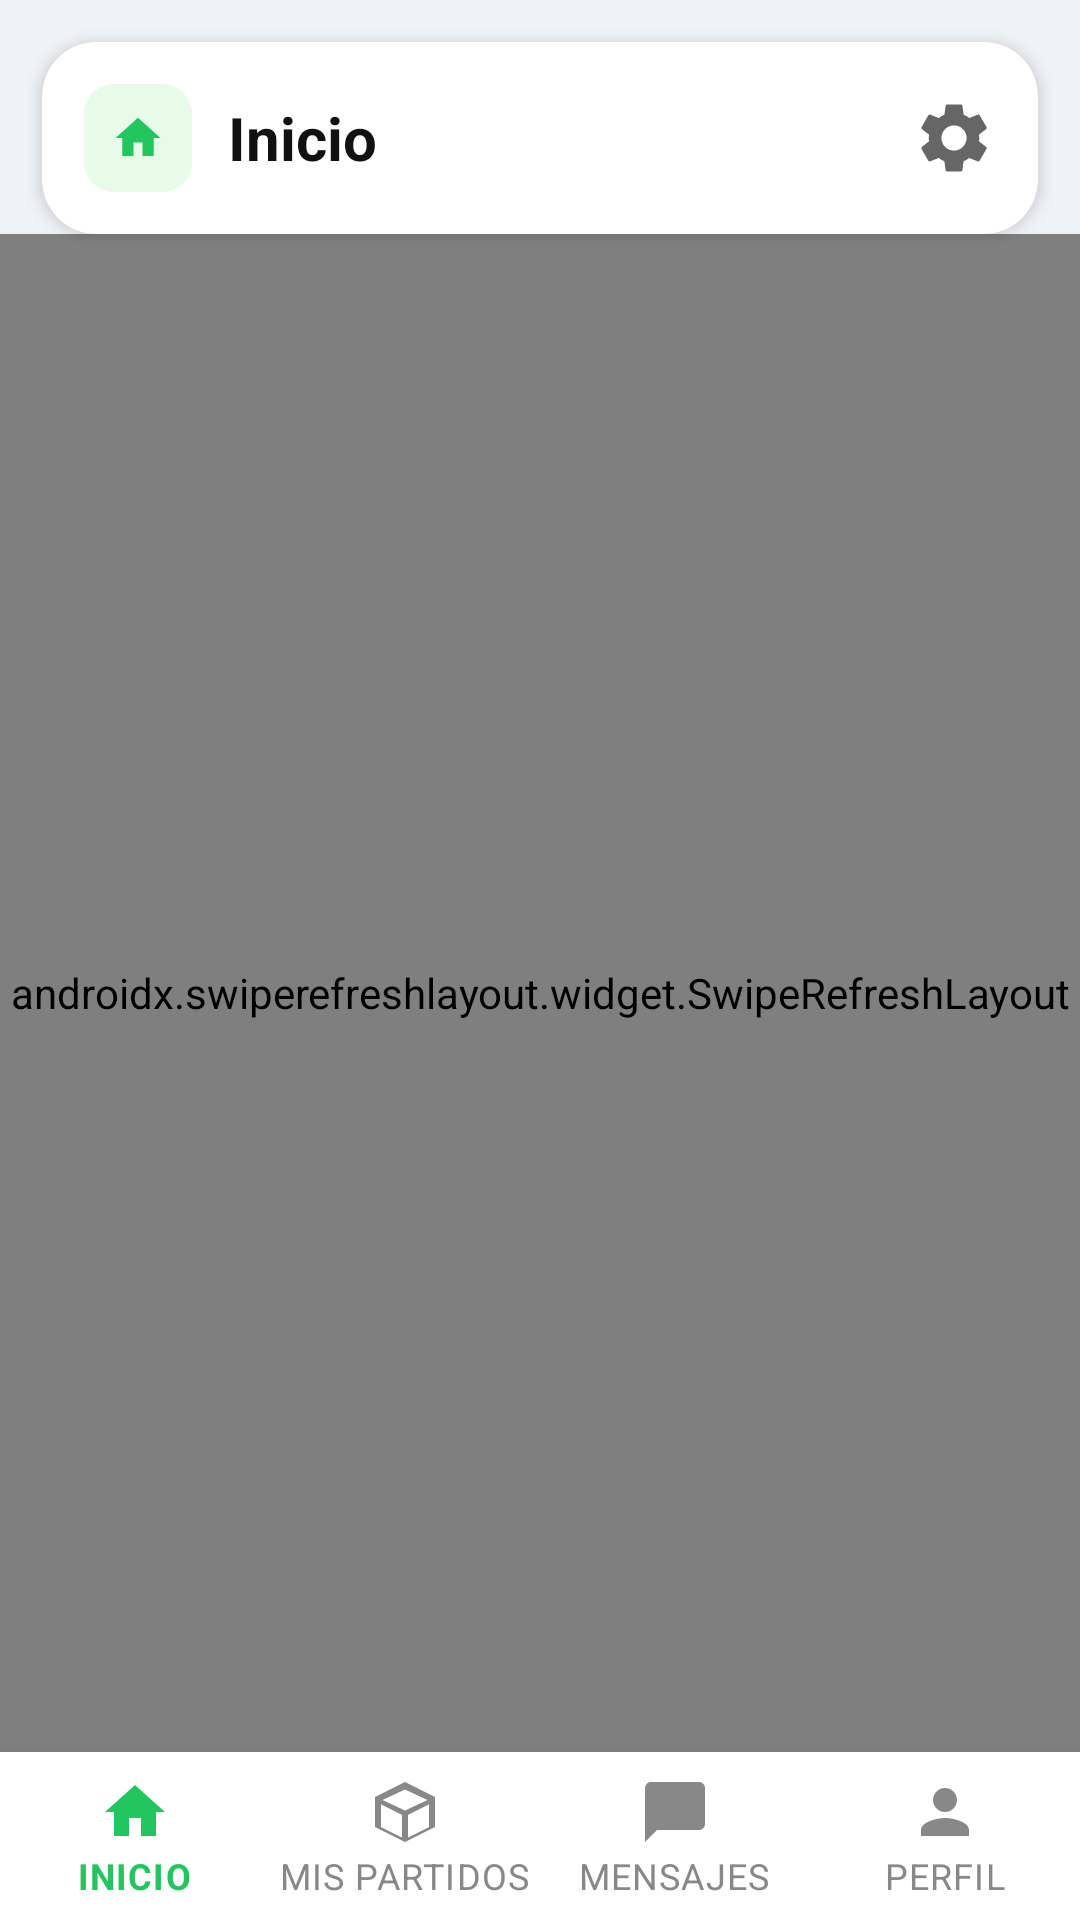

Screen size 1080px x 1920px. Icon name, then its center in pixels as (x=x, y=y):
Configuración: (x=954, y=138)
home: (x=138, y=137)
